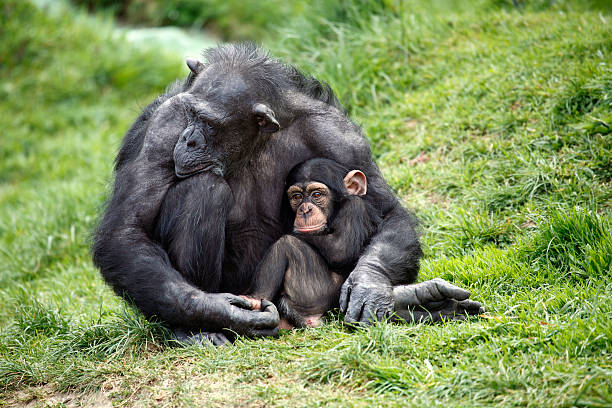chimpanzee: (139, 39, 287, 188), (273, 156, 369, 263)
